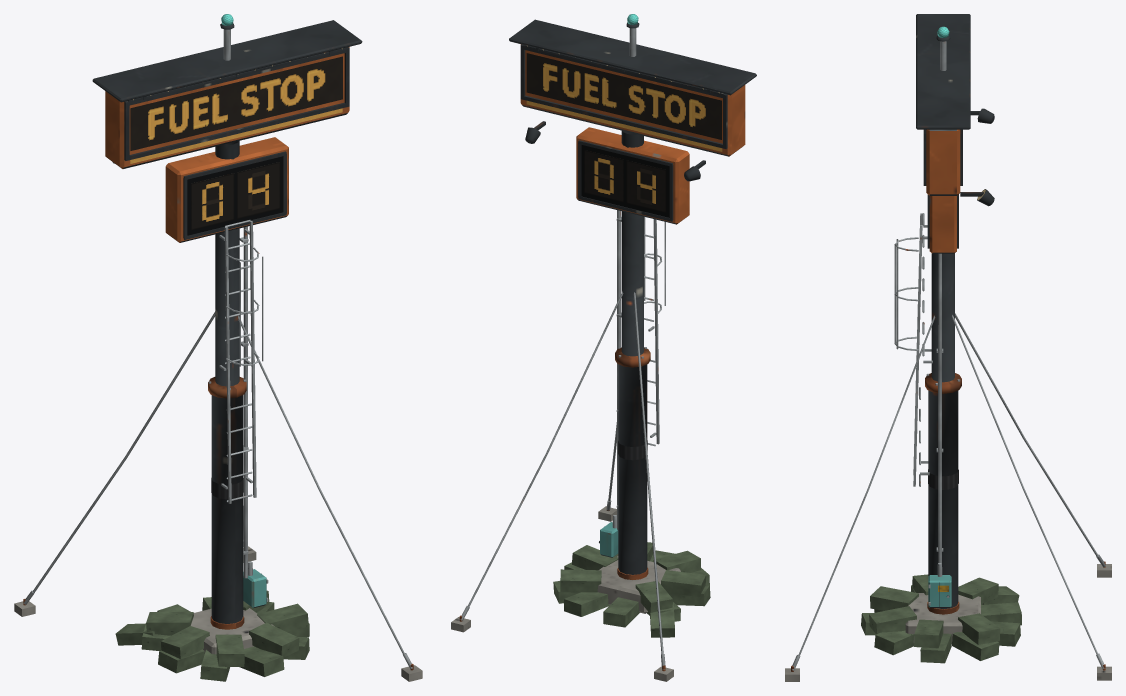
File: Pylon.fbx
The picture shows the model from 3 angles, left to right: view 1: azimuth 30°, elevation 25°; view 2: azimuth 150°, elevation 25°; view 3: azimuth 270°, elevation 25°; orthographic projection. The views are drawn at different scales.
Visible parts, largest first — view 1: Pylon, Neon FUEL STOP, Number 04; view 2: Pylon, Neon FUEL STOP, Number 04; view 3: Pylon.
Part boxes in pixels (box(x1,y1,x2,y2)): Pylon: box(14, 20, 422, 681); Neon FUEL STOP: box(130, 56, 342, 150); Number 04: box(191, 162, 280, 230); Pylon: box(451, 19, 756, 681); Neon FUEL STOP: box(526, 53, 721, 139); Number 04: box(584, 150, 666, 212); Pylon: box(785, 14, 1111, 681).
Bounding box in the file's own units: 3.96 × 9.77 × 4.77.
